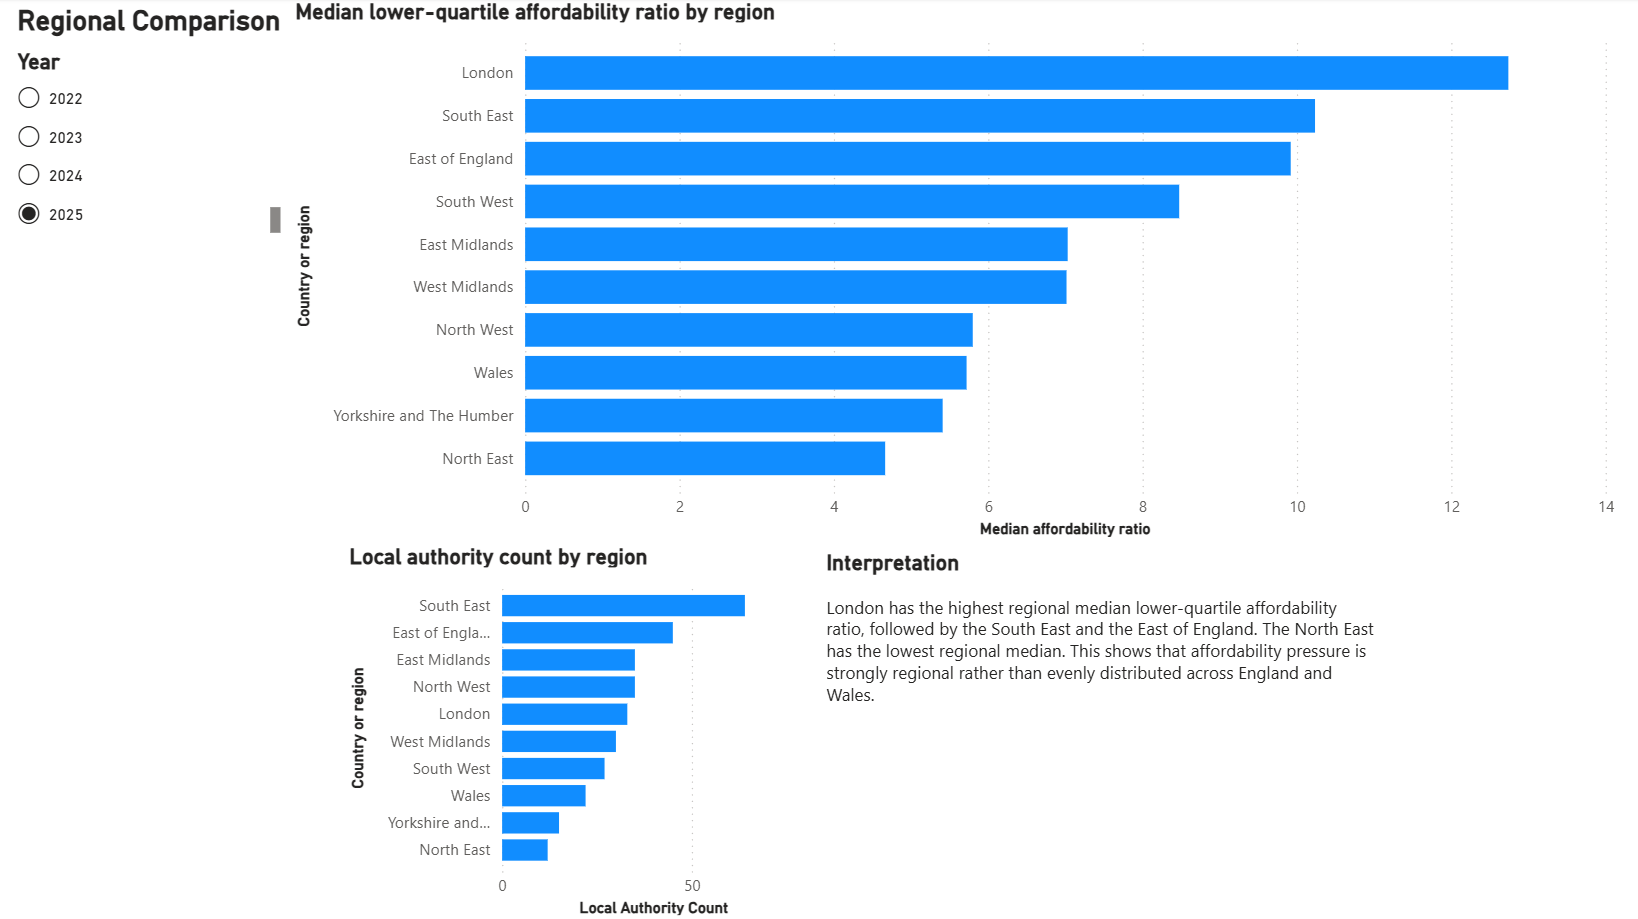

What the dashboard file says about the page in this screenshot:
{"tool":"powerbi","page":{"name":"Regional Comparison","canvas":[1280,720],"ordinal":1},"visuals":[{"type":"textbox","box":[9.7,0,215.9,38.9],"z":0},{"type":"listSlicer","title":"Year","fields":{"Values":["affordability_area_year_cleaned.year"]},"box":[9.7,38.9,215.9,149.8],"z":1000},{"type":"clusteredBarChart","title":"Median lower-quartile affordability ratio by region","fields":{"Category":["affordability_area_year_cleaned.country_region_name"],"Y":["affordability_area_year_cleaned.Median LQ Affordability Ratio"]},"box":[226,0,1037.9,424.7],"z":2000},{"type":"clusteredBarChart","title":"Local authority count by region","fields":{"Category":["affordability_area_year_cleaned.country_region_name"],"Y":["affordability_area_year_cleaned.Local Authority Count"]},"box":[268.1,424.7,372.5,295.3],"z":3000},{"type":"textbox","box":[639.7,424.7,440.3,149.6],"z":4000}]}

Visuals, with their boxes in screenshot pixels (x1, y1, x2, y2), scaled from the page's 1280x720 canvas onto the 1638x919 screenshot:
textbox: <box>12,0,289,50</box>
"Year" listSlicer: <box>12,50,289,241</box>
"Median lower-quartile affordability ratio by region" clusteredBarChart: <box>289,0,1617,542</box>
"Local authority count by region" clusteredBarChart: <box>343,542,820,918</box>
textbox: <box>819,542,1382,733</box>
